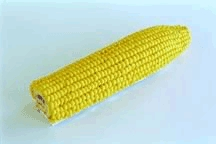corn: (28, 24, 191, 126)
